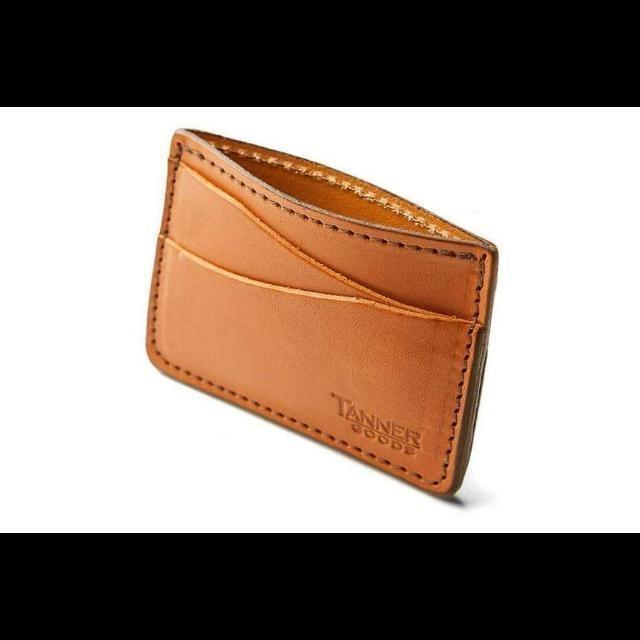Wallet: (146, 124, 500, 500)
